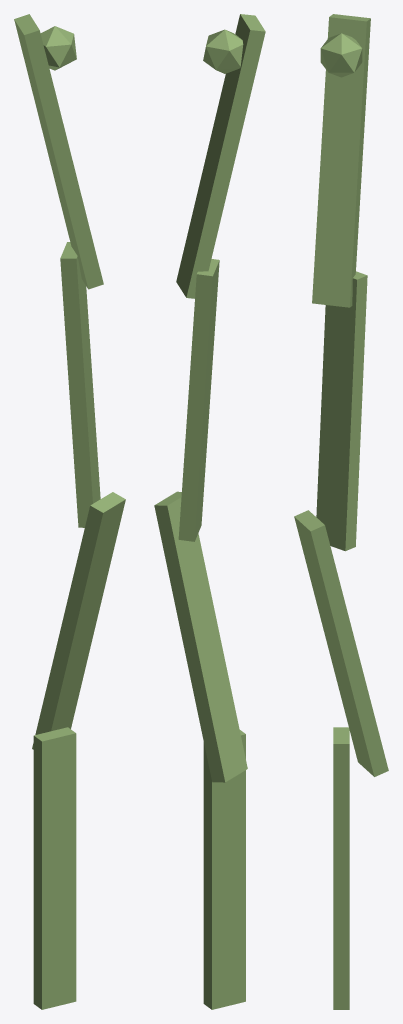
Rendered from Kelp.fbx.
3 renders of one model, left to right at view 1: azimuth 30°, elevation 25°; view 2: azimuth 210°, elevation 25°; view 3: azimuth 270°, elevation 25°, orthographic.
Visible parts, largest first — view 1: Body; view 2: Body; view 3: Body.
Part boxes in pixels (x1=…): Body: x1=14, y1=14, x2=125, y2=1009; Body: x1=154, y1=14, x2=265, y2=1009; Body: x1=294, y1=14, x2=388, y2=1009.
Size of the model in its own units: 0.3169 by 3.29 by 0.2904.
